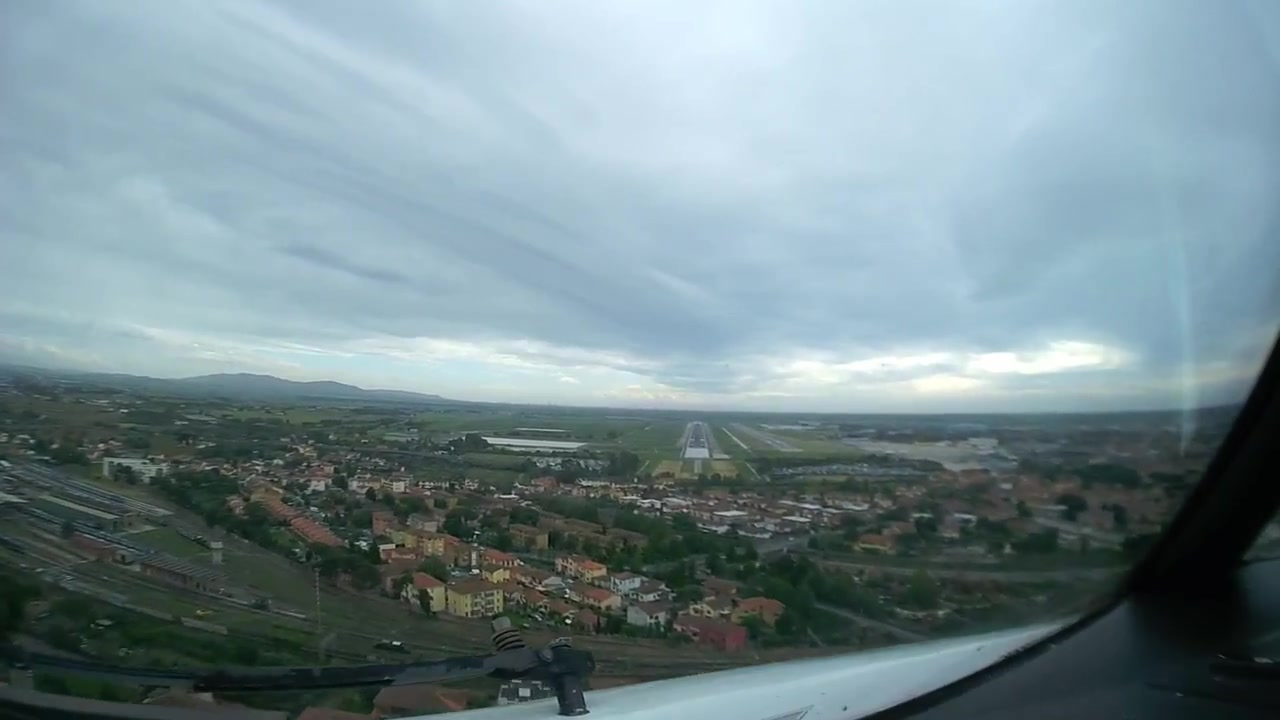runway: (683, 419, 709, 452)
